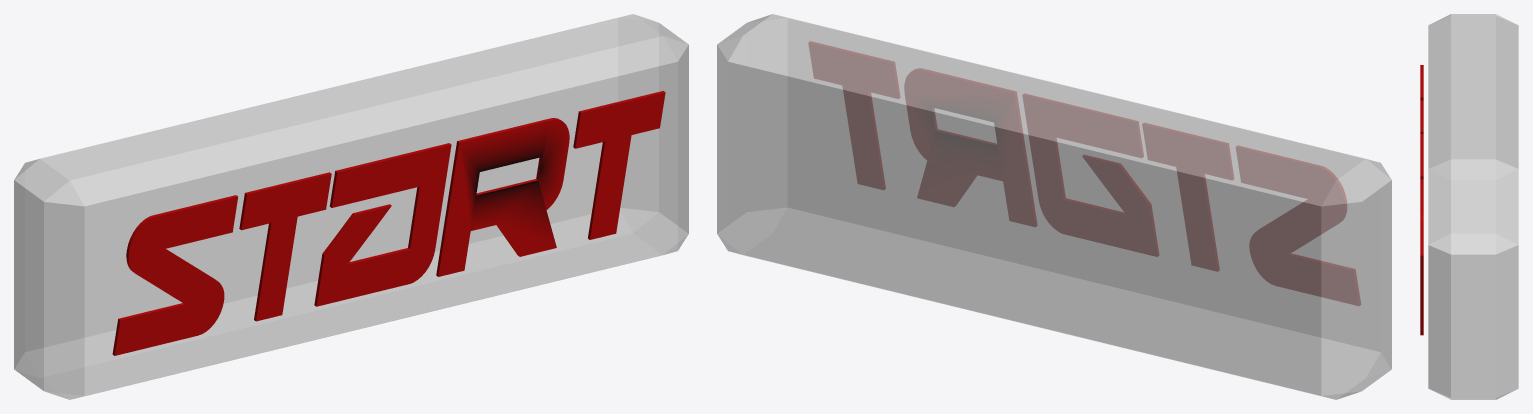
Rendered from startbuttonforthemenu.fbx.
The picture shows the model from 3 angles, left to right: view 1: azimuth 30°, elevation 25°; view 2: azimuth 150°, elevation 25°; view 3: azimuth 270°, elevation 25°; orthographic projection. The views are drawn at different scales.
Visible parts, largest first — view 1: pCube1, typeMesh5; view 2: pCube1, typeMesh5; view 3: pCube1, typeMesh5.
Part boxes in pixels (x1,y1,x2,y2): pCube1: [14, 14, 688, 399]; typeMesh5: [112, 91, 665, 355]; pCube1: [717, 14, 1391, 399]; typeMesh5: [808, 41, 1360, 305]; pCube1: [1428, 14, 1518, 399]; typeMesh5: [1420, 65, 1423, 335].
Size of the model in its own units: 4.59 by 1.49 by 0.7987.
